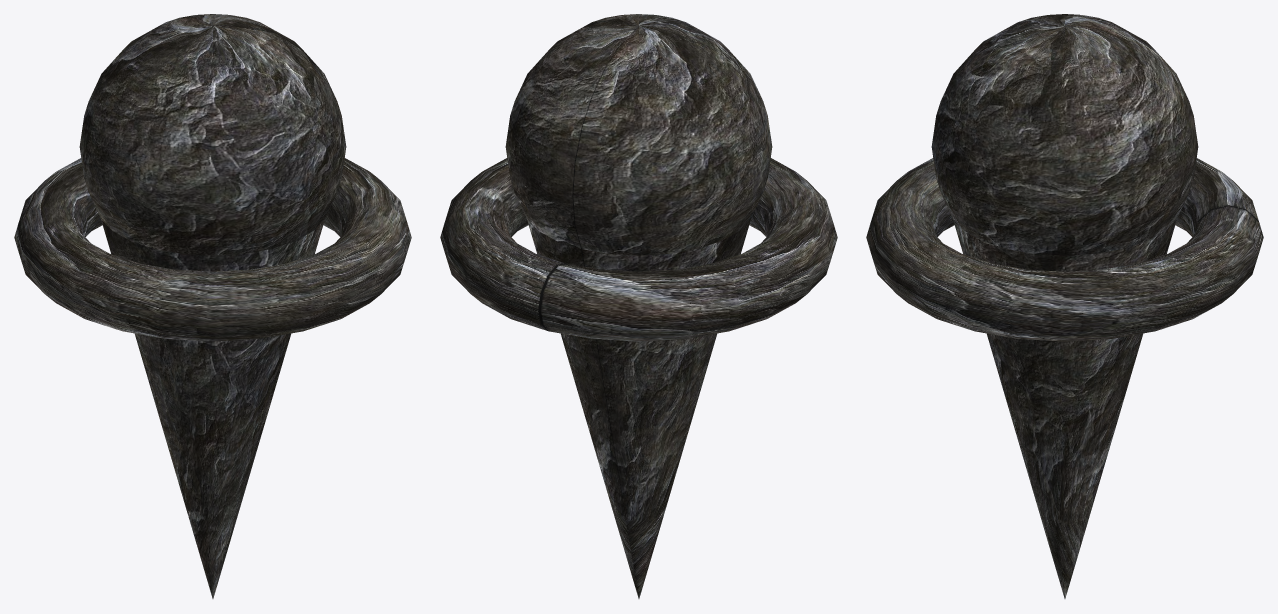
File: point.FBX
The picture shows the model from 3 angles, left to right: view 1: azimuth 30°, elevation 25°; view 2: azimuth 150°, elevation 25°; view 3: azimuth 270°, elevation 25°; orthographic projection.
Parts seen in each view (by area): view 1: Point; view 2: Point; view 3: Point.
Part boxes in pixels (box(x1,y1,x2,y2)): Point: box(14, 14, 411, 598); Point: box(440, 14, 837, 598); Point: box(866, 14, 1263, 598).
Size of the model in its own units: 11.92 by 19 by 11.92.
1 material, 1 textured.
